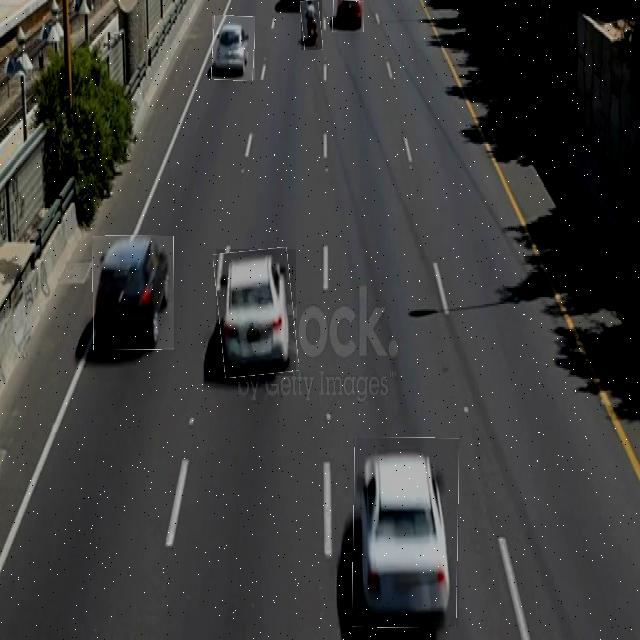Car: (353, 438, 459, 628), (216, 249, 296, 376), (93, 236, 174, 350), (212, 16, 255, 80), (332, 0, 364, 32)
Motorcycle: (301, 0, 322, 50)
